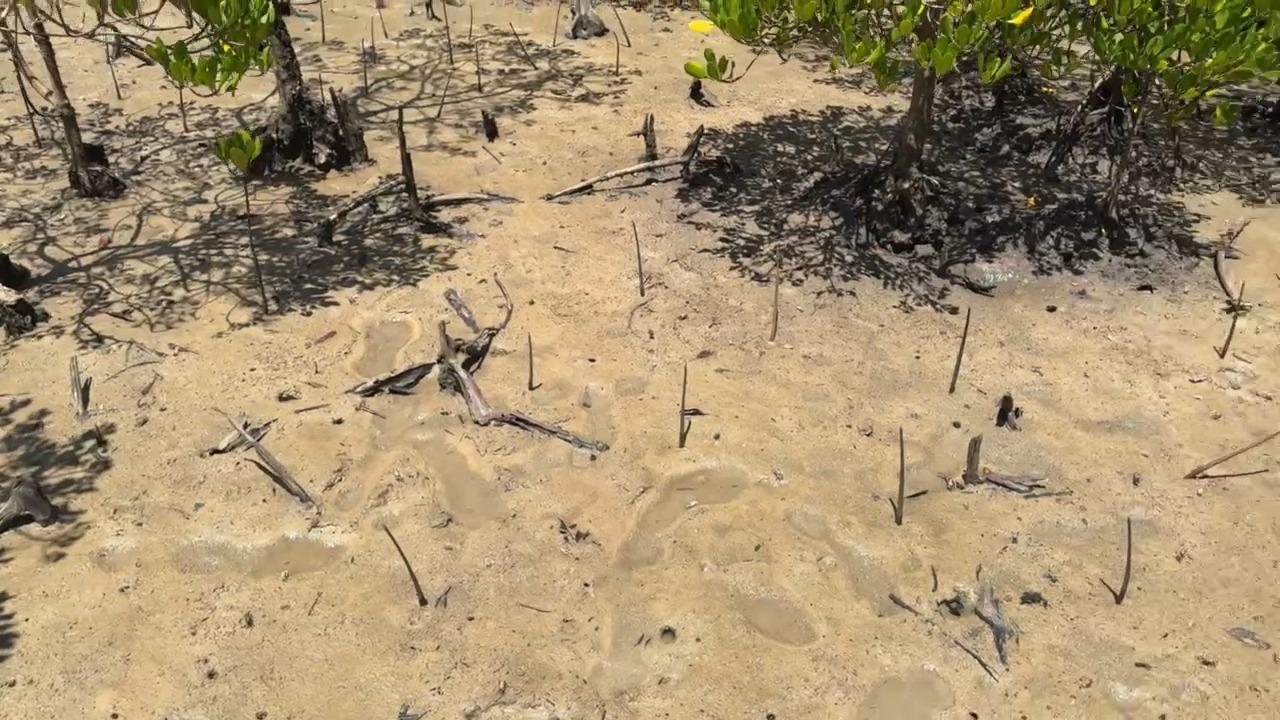Tree: (209, 130, 270, 314), (1183, 430, 1280, 479), (383, 526, 427, 606), (948, 306, 972, 394), (1220, 282, 1247, 358), (19, 75, 43, 148), (1116, 516, 1132, 605), (509, 22, 538, 70), (631, 220, 646, 296), (769, 249, 779, 341), (896, 426, 905, 526), (612, 4, 633, 46), (106, 46, 122, 100), (442, 0, 454, 64), (679, 363, 688, 448), (437, 78, 451, 120), (553, 1, 566, 45), (178, 86, 190, 133), (361, 39, 369, 93), (527, 332, 534, 390), (612, 32, 621, 74), (475, 43, 483, 90), (318, 0, 326, 43), (378, 8, 388, 39), (371, 15, 376, 64), (468, 6, 474, 38)
